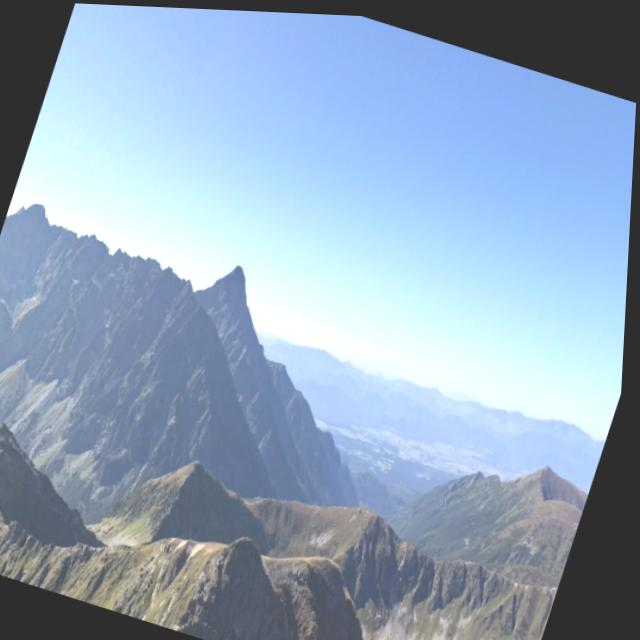Hruby vrch: (4, 167, 72, 245)
Krivan: (170, 189, 309, 344)
